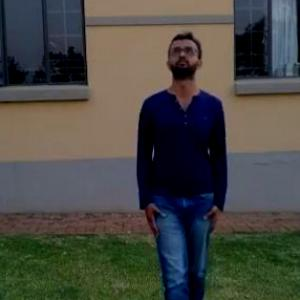follow: (132, 23, 234, 299)
